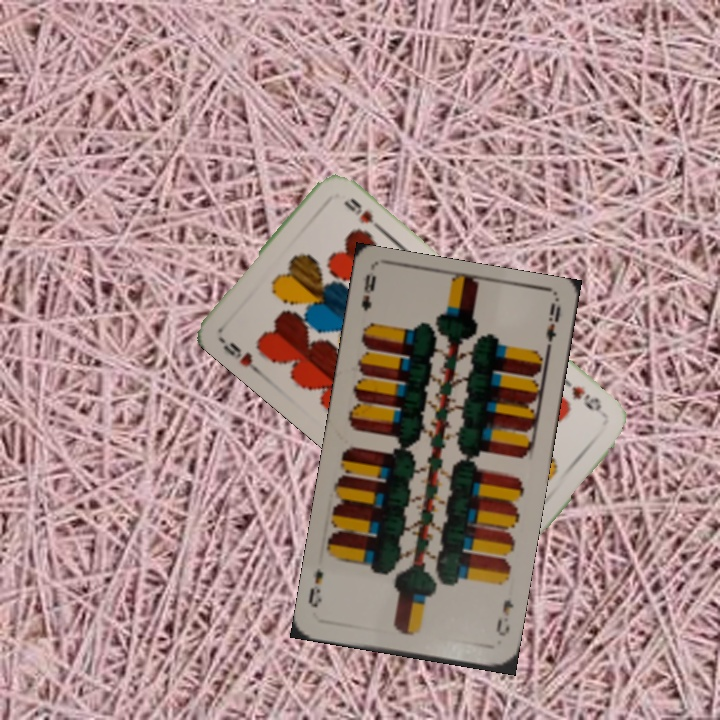E9: (492, 595, 516, 639), (357, 270, 379, 313)
H9: (215, 333, 265, 378), (567, 382, 605, 414)
